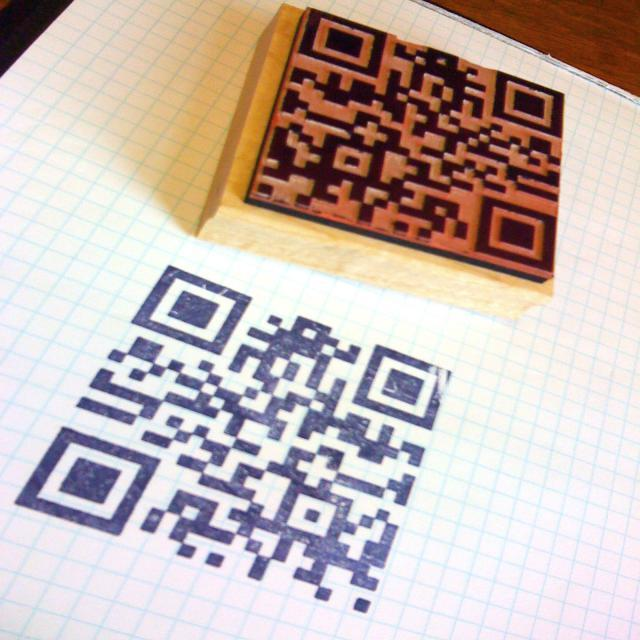qrcode: (14, 267, 453, 615), (257, 9, 564, 267)
